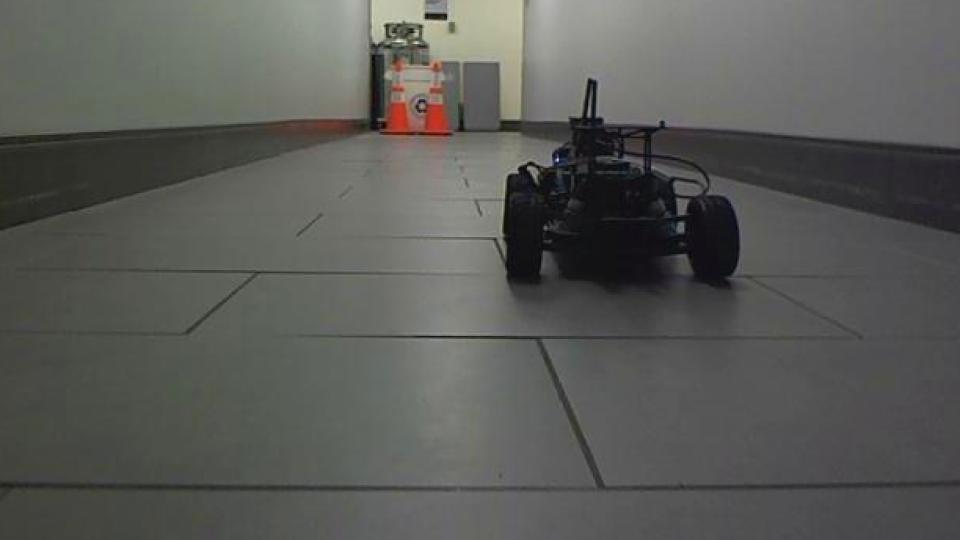car: (499, 75, 745, 289)
